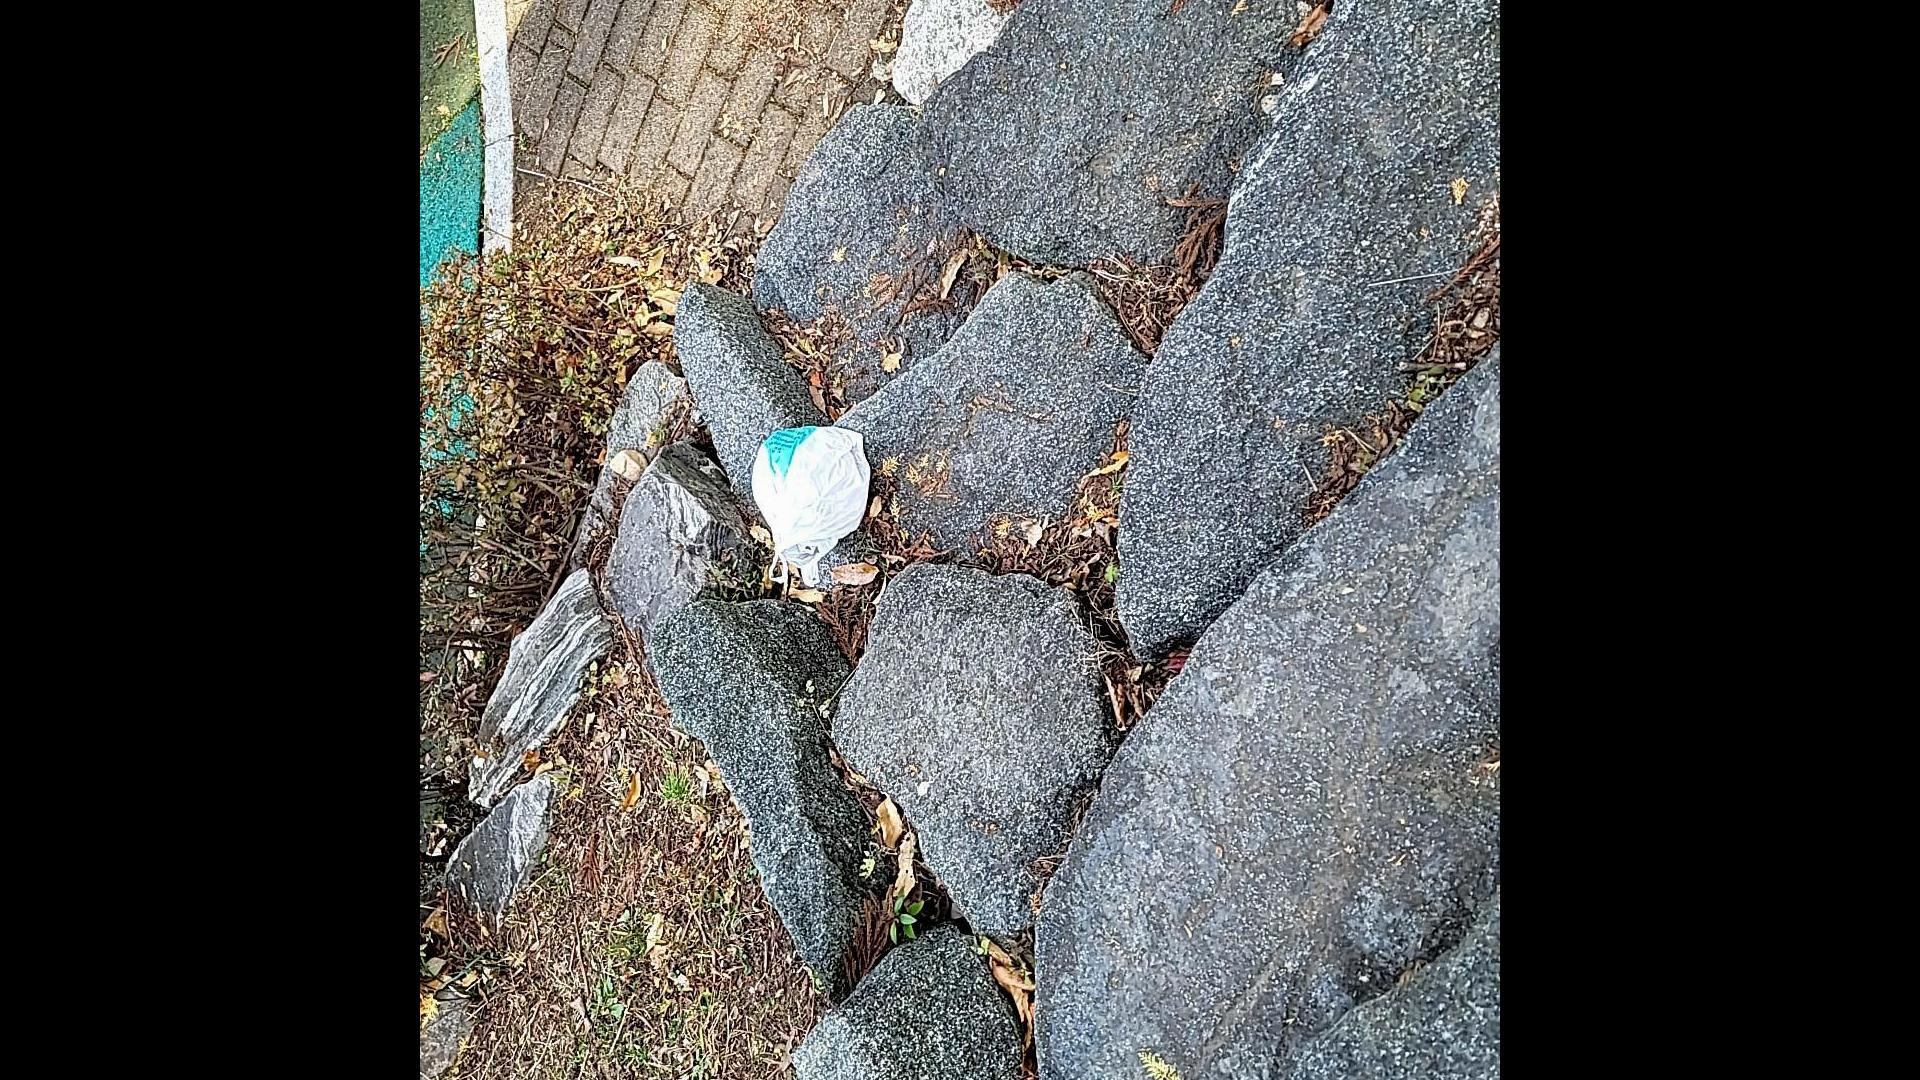white_bag: (740, 415, 878, 599)
